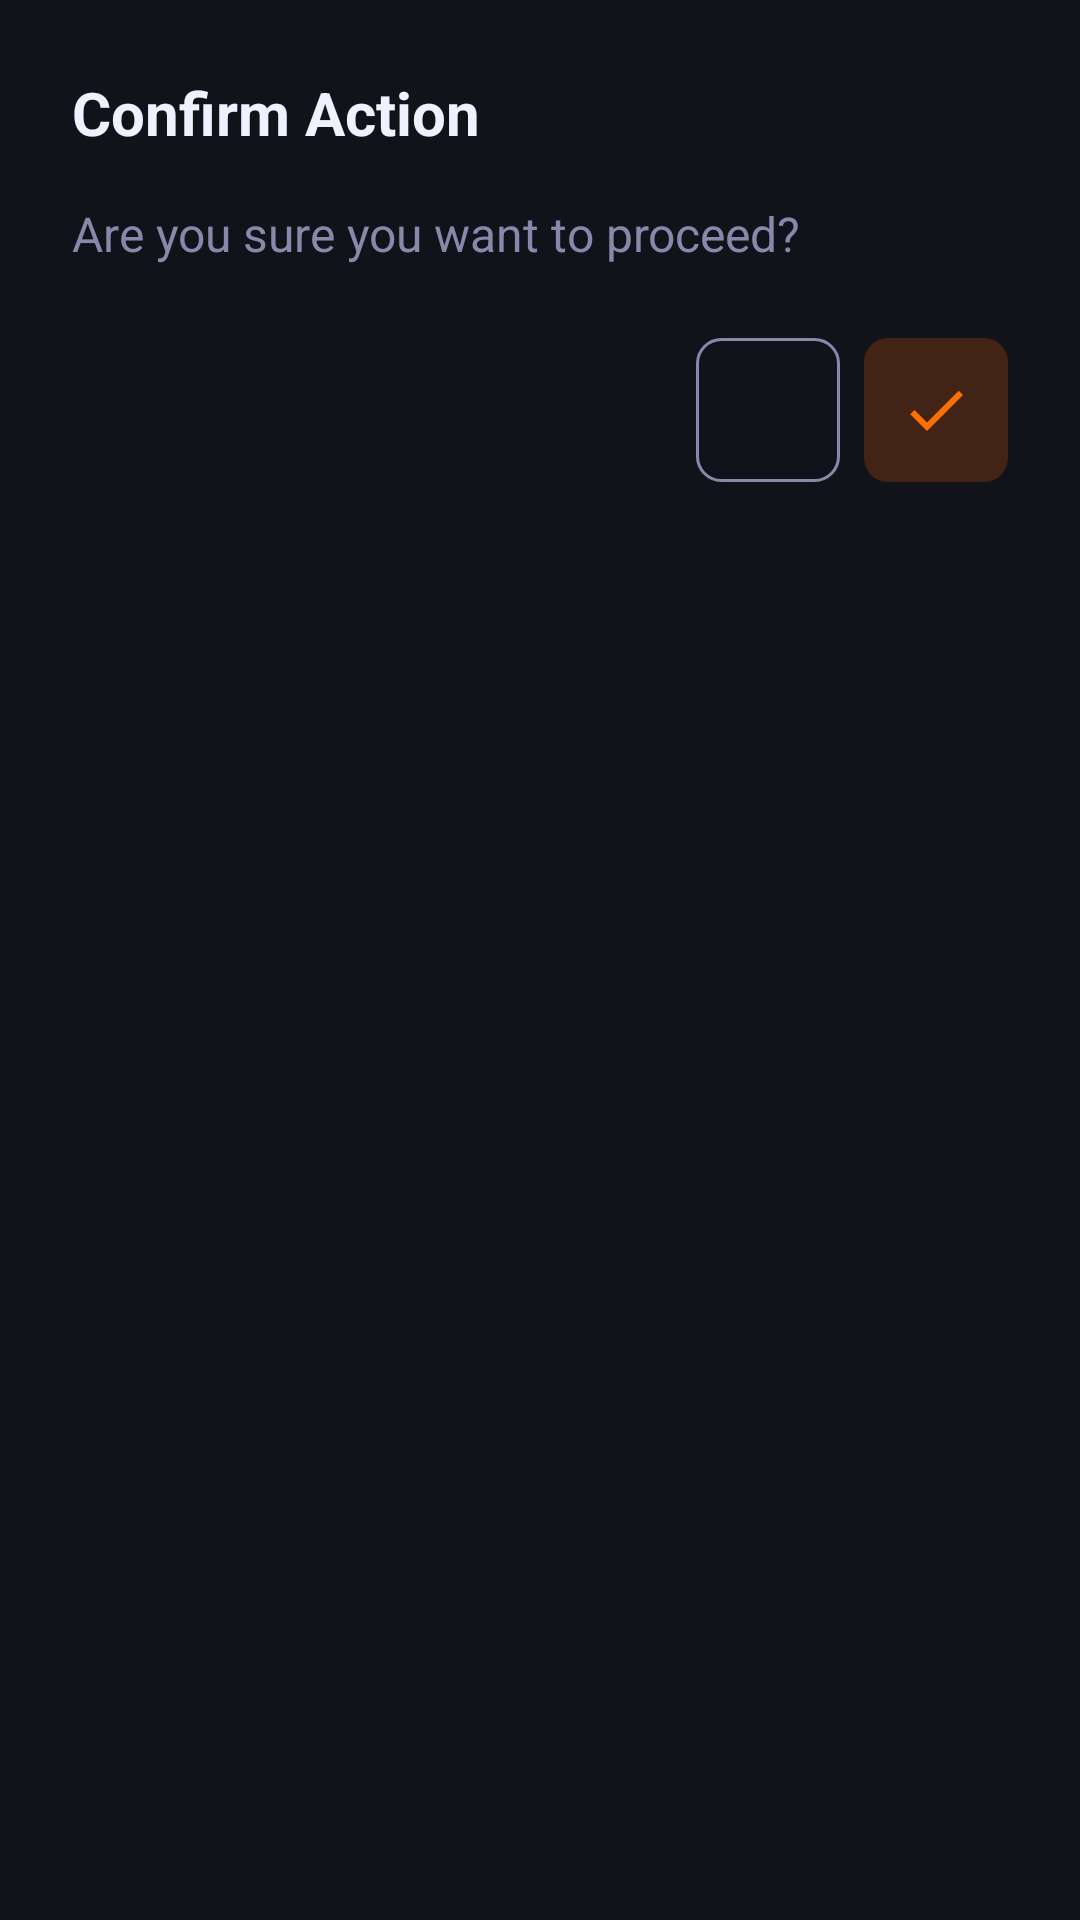

Icons on this 1080*1920 Android screen, each with its box as (x1, y1, x2, y2):
Confirm: (864, 338, 1008, 482)
